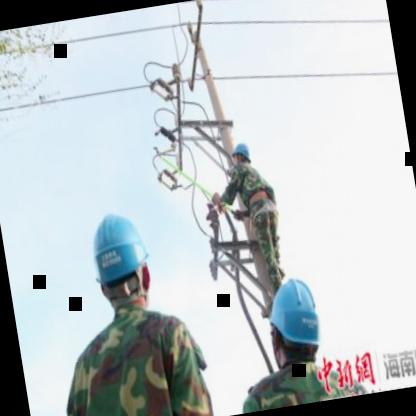helmet: (80, 201, 166, 324), (260, 263, 334, 377), (228, 135, 256, 172)
